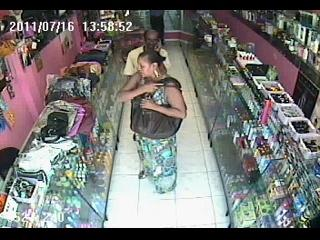Normal: (116, 51, 188, 193), (123, 29, 171, 82), (148, 10, 166, 45), (75, 50, 109, 66)
